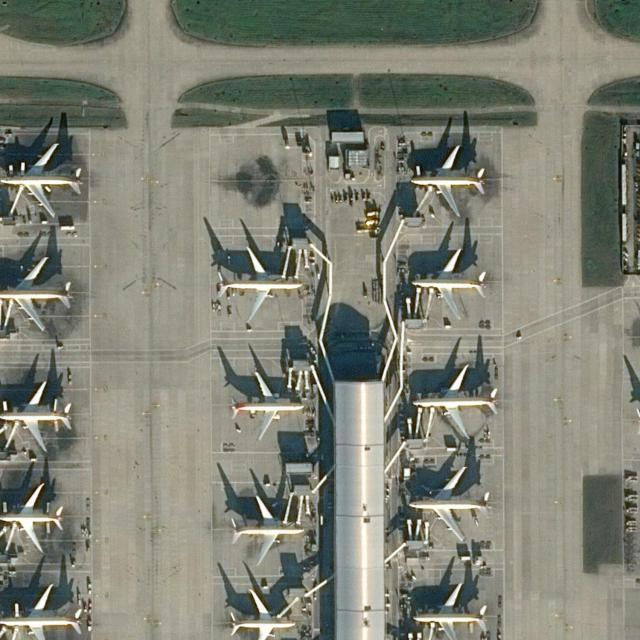Aircraft: (212, 244, 302, 321), (412, 361, 499, 438), (411, 363, 499, 439), (216, 246, 305, 321), (407, 464, 489, 544), (406, 465, 492, 541), (1, 141, 84, 219), (0, 140, 82, 218), (407, 245, 487, 319), (409, 247, 489, 320), (228, 368, 305, 442), (0, 256, 76, 330), (409, 144, 487, 216), (0, 255, 73, 331), (227, 492, 304, 564), (227, 495, 305, 565), (408, 145, 485, 215), (1, 379, 73, 452), (0, 381, 74, 452), (228, 370, 305, 438), (0, 583, 86, 640), (0, 580, 81, 640), (1, 483, 67, 555), (409, 580, 488, 640), (411, 581, 490, 640), (0, 481, 64, 553), (226, 587, 298, 640), (225, 589, 295, 640)
